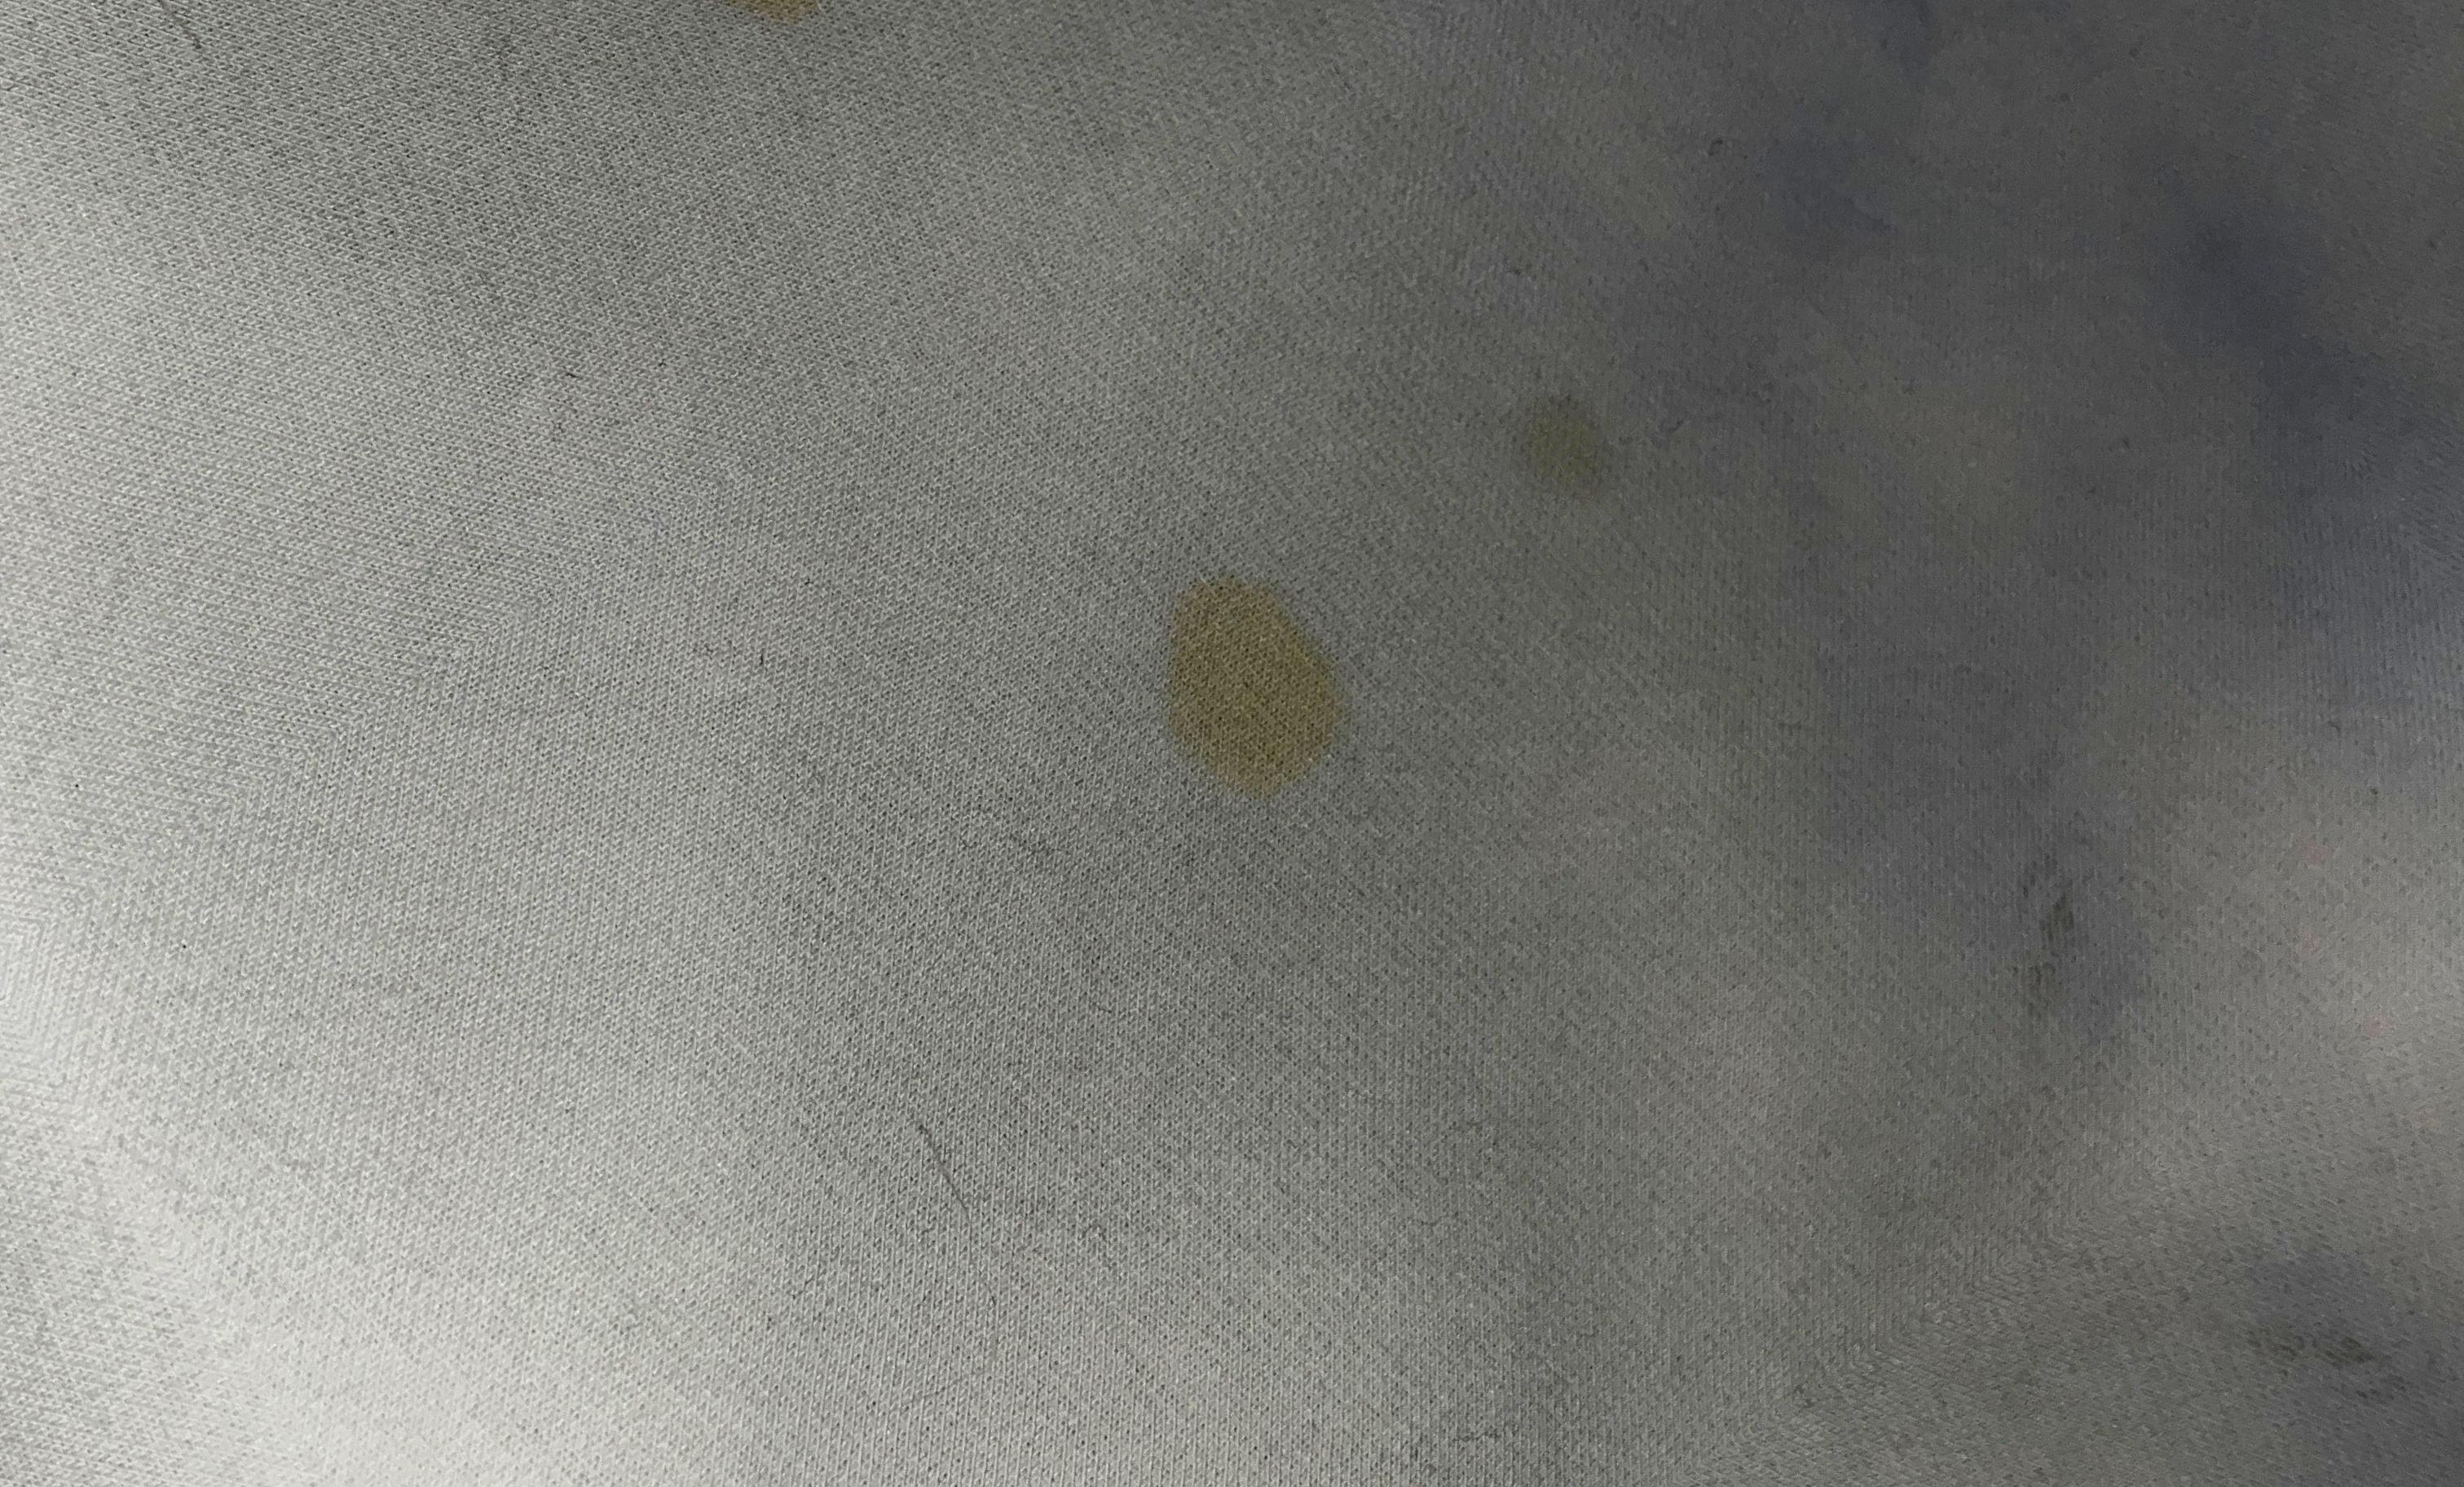stain: (1137, 554, 1378, 818), (1503, 373, 1647, 533)
